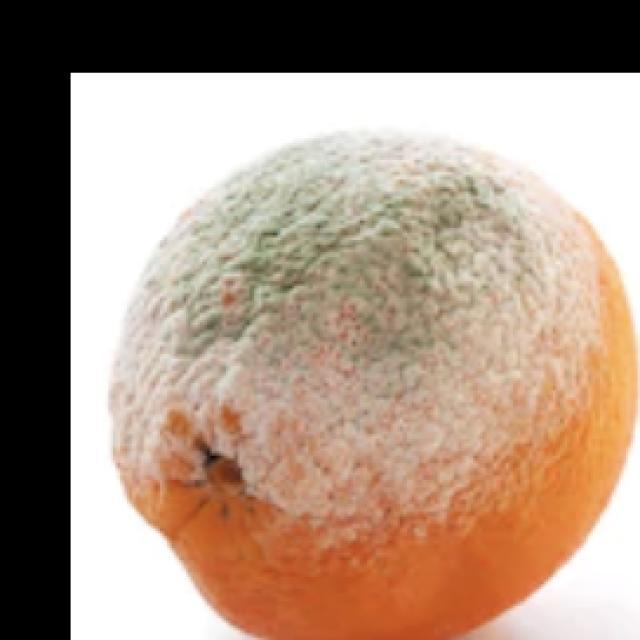sedikit-busuk: (110, 132, 636, 639)
